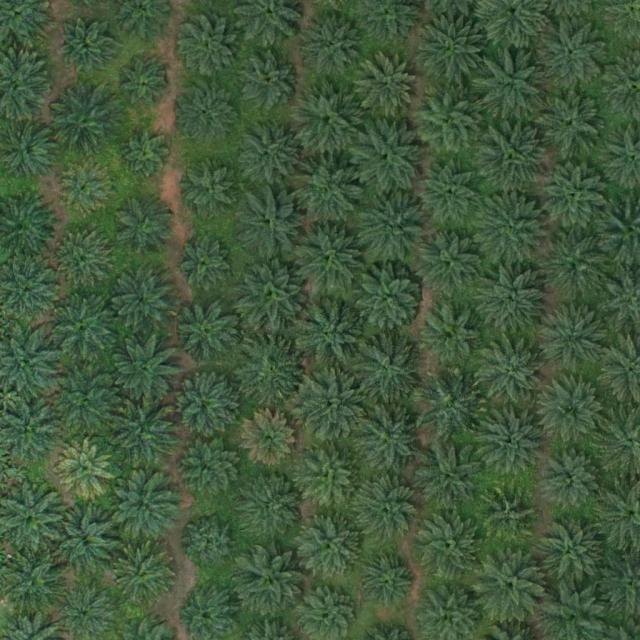Grass: (2, 554, 65, 617)
Healthy: (477, 47, 548, 118), (416, 15, 487, 86), (49, 291, 120, 362), (110, 335, 181, 406), (237, 189, 308, 260), (237, 260, 308, 331), (412, 86, 483, 157), (475, 266, 546, 337), (540, 303, 611, 374), (354, 404, 425, 475), (109, 396, 180, 467), (52, 89, 122, 160), (53, 370, 123, 441), (293, 157, 363, 228), (295, 302, 365, 373), (297, 371, 367, 442), (355, 122, 425, 193), (359, 192, 429, 263), (355, 262, 425, 333), (415, 370, 485, 441), (478, 122, 548, 193), (478, 196, 548, 267), (541, 162, 611, 233), (540, 231, 610, 302), (536, 515, 607, 585), (476, 404, 546, 475), (416, 441, 486, 512), (52, 505, 122, 576), (109, 475, 179, 546), (239, 551, 309, 622), (541, 20, 611, 90), (233, 48, 303, 118), (234, 119, 304, 189), (238, 337, 308, 407), (291, 85, 361, 155), (294, 224, 364, 294), (352, 333, 422, 403), (417, 227, 487, 297), (480, 340, 550, 410), (537, 88, 607, 158), (538, 377, 608, 447), (476, 550, 546, 620), (413, 512, 483, 582), (357, 53, 420, 116), (115, 193, 178, 256), (112, 271, 175, 334), (174, 301, 237, 364), (422, 304, 485, 367), (355, 476, 418, 539), (179, 436, 242, 499), (303, 14, 365, 77), (179, 162, 241, 225), (174, 374, 237, 436), (419, 165, 482, 227), (300, 445, 362, 508), (299, 515, 362, 577), (243, 474, 305, 537), (177, 18, 239, 80), (177, 83, 239, 145), (113, 546, 175, 608), (58, 19, 113, 74), (58, 164, 113, 219), (57, 229, 112, 284), (121, 126, 176, 181), (177, 236, 232, 291), (483, 488, 538, 543), (358, 553, 413, 608), (545, 453, 600, 508), (184, 516, 239, 571)
Small: (121, 60, 168, 108)
Yellow: (242, 412, 297, 467), (58, 440, 113, 495)
